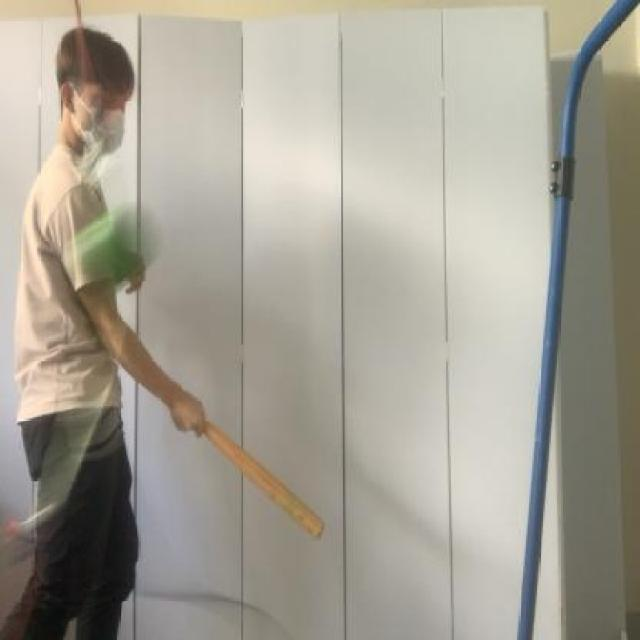baseball: (36, 173, 161, 304)
